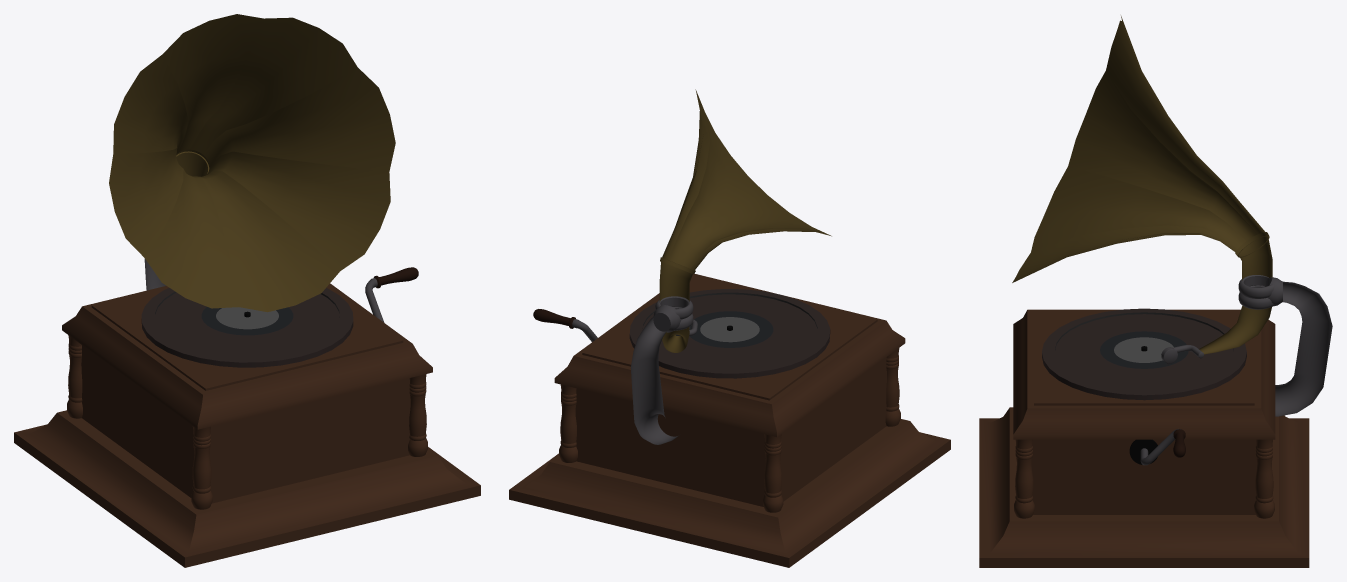
Rendered from V_Vintage01_Gramophone_Joined.fbx.
The picture shows the model from 3 angles, left to right: view 1: azimuth 30°, elevation 25°; view 2: azimuth 150°, elevation 25°; view 3: azimuth 270°, elevation 25°; orthographic projection. The views are drawn at different scales.
Visible parts, largest first — view 1: Caixa; view 2: Caixa; view 3: Caixa.
Boxes of the visible parts, x1,y1,x2,y2 form: Caixa: [14, 14, 480, 567]; Caixa: [509, 89, 950, 567]; Caixa: [979, 16, 1332, 567].
Bounding box in the file's own units: 238 × 306 × 214.
